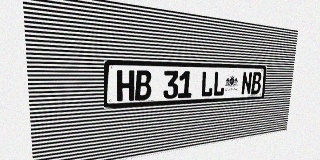1: (178, 71, 192, 98)
3: (163, 71, 178, 99)
B: (135, 70, 152, 101), (251, 72, 262, 94)
H: (117, 70, 135, 101)
L: (200, 71, 214, 97), (213, 71, 226, 96)
N: (241, 72, 252, 95)
